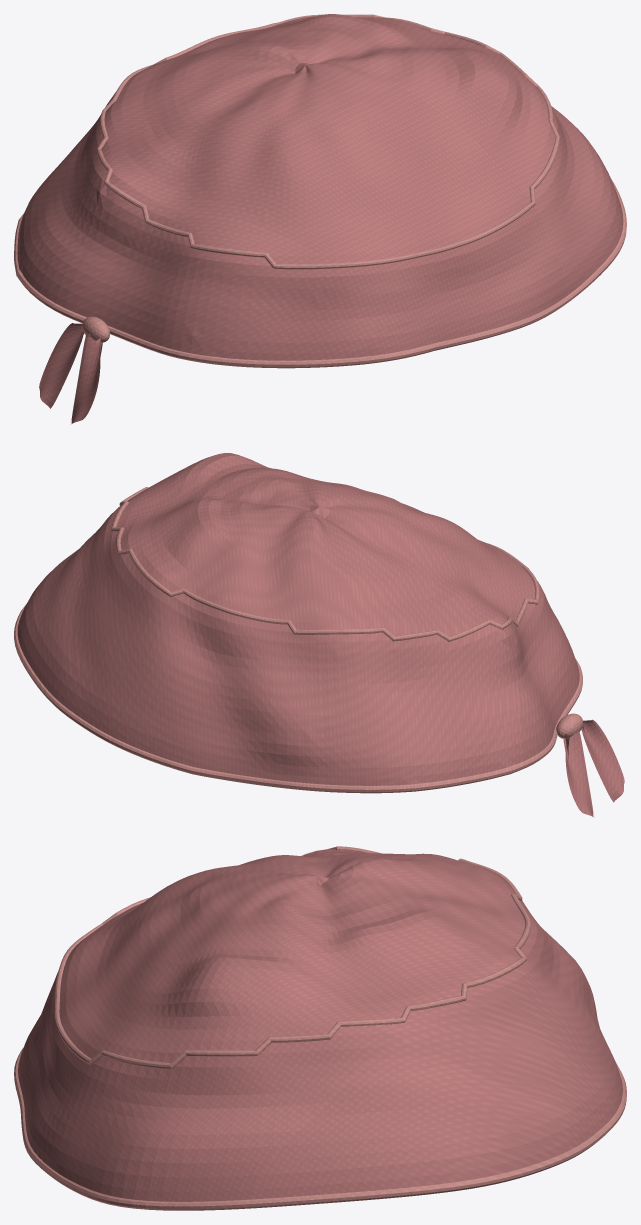
Rendered from side_innkeeper_headcloth.glb.
The picture shows the model from 3 angles, top to bottom: view 1: azimuth 30°, elevation 25°; view 2: azimuth 150°, elevation 25°; view 3: azimuth 270°, elevation 25°; orthographic projection. The views are drawn at different scales.
Parts seen in each view (by area): view 1: wash_dyed_linen, sewn_fold; view 2: wash_dyed_linen, sewn_fold; view 3: wash_dyed_linen, sewn_fold.
Boxes of the visible parts, left/top/right/bottom form: wash_dyed_linen: left=17, top=14, right=623, bottom=423; sewn_fold: left=14, top=14, right=626, bottom=368; wash_dyed_linen: left=17, top=453, right=624, bottom=817; sewn_fold: left=14, top=487, right=582, bottom=793; wash_dyed_linen: left=18, top=849, right=622, bottom=1201; sewn_fold: left=14, top=846, right=626, bottom=1210.
Bounding box in the file's own units: 16.08 × 7.6 × 13.42.
Materials: 3 (3 with a texture image).
